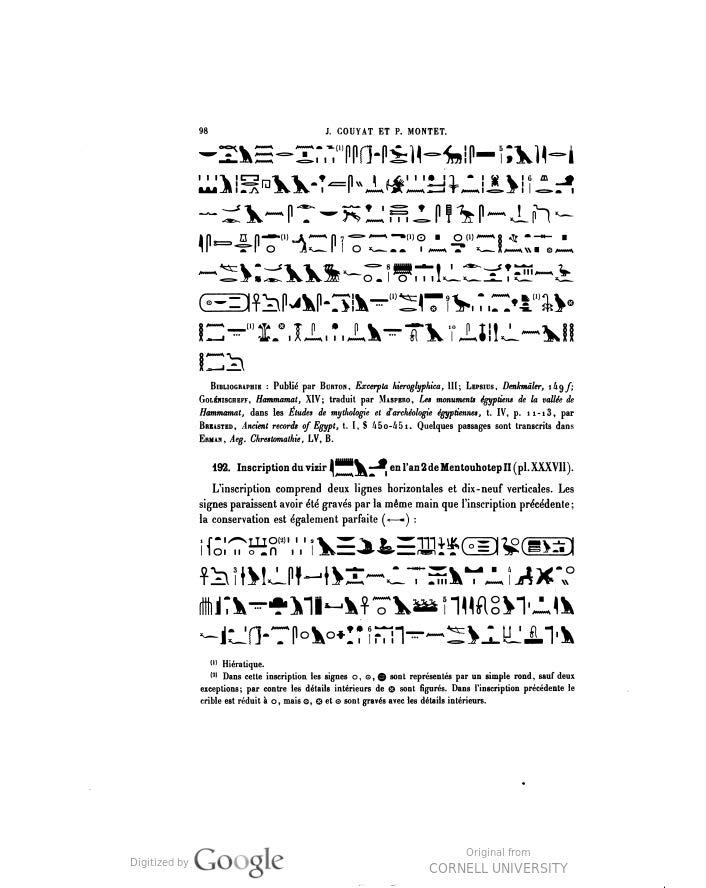circle: (516, 530, 579, 572), (192, 288, 264, 318), (459, 528, 506, 570)
